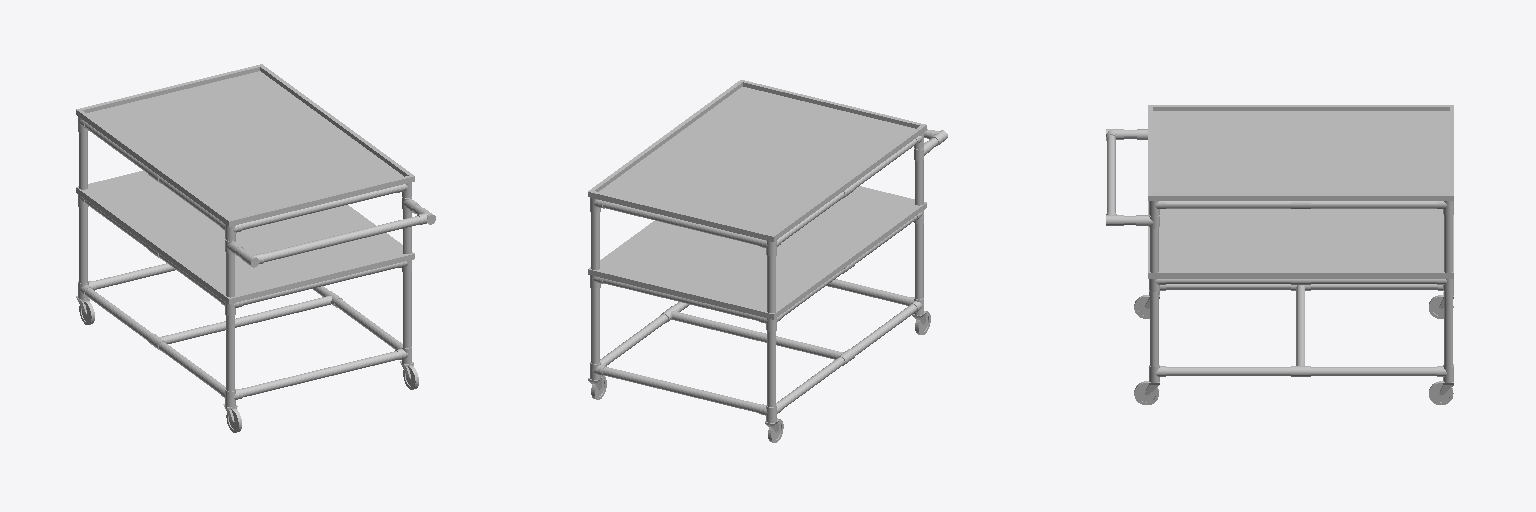
File: DCO Cart.obj
3 renders of one model, left to right at view 1: azimuth 30°, elevation 25°; view 2: azimuth 150°, elevation 25°; view 3: azimuth 270°, elevation 25°, orthographic.
Visible parts, largest first — view 1: Top; view 2: Top; view 3: Top.
Part boxes in pixels (left/top/right/bottom): Top: left=76, top=64, right=435, bottom=432; Top: left=588, top=80, right=947, bottom=442; Top: left=1106, top=105, right=1453, bottom=404.
Bounding box in the file's own units: 14.03 × 15.19 × 22.77.